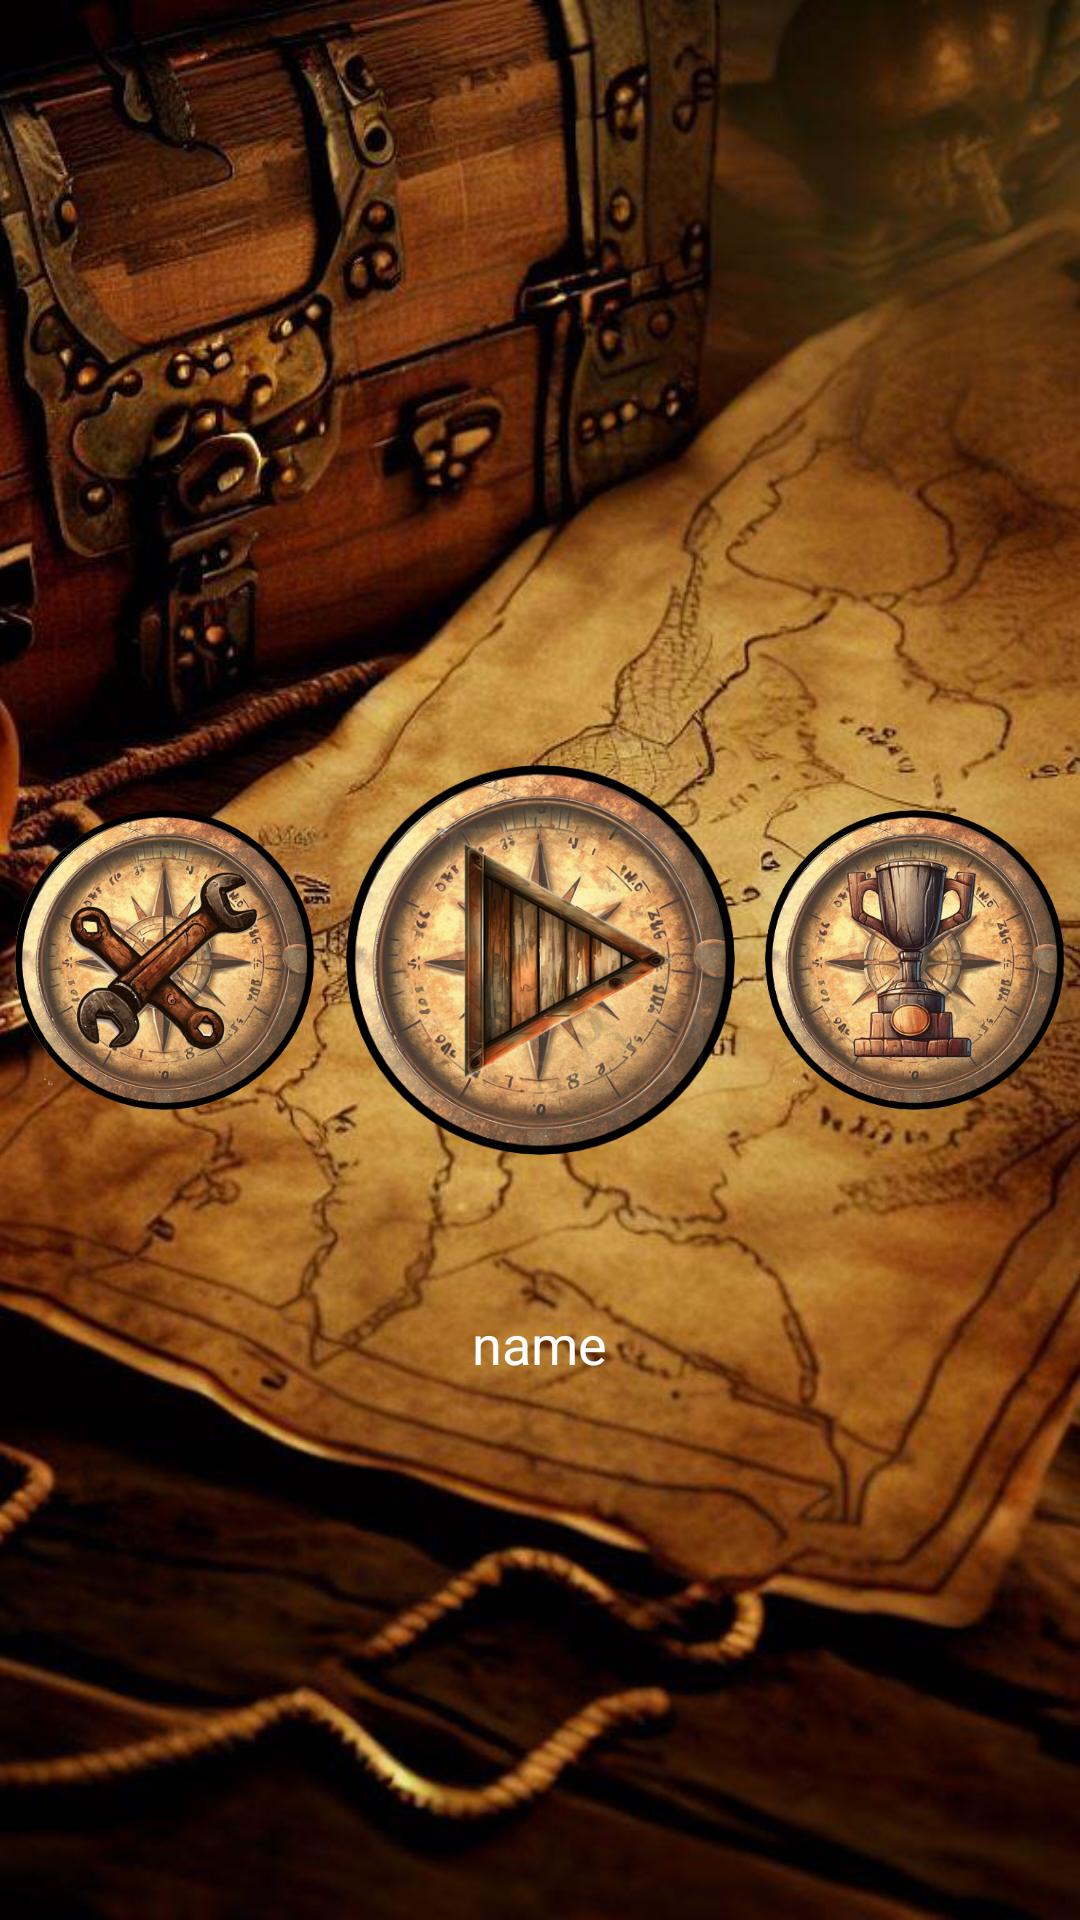

Where to tap for icons on this 1080x1920 app screen, as (x,y):
editbuttonimage: (165,960)
lbbuttonimage: (915,960)
